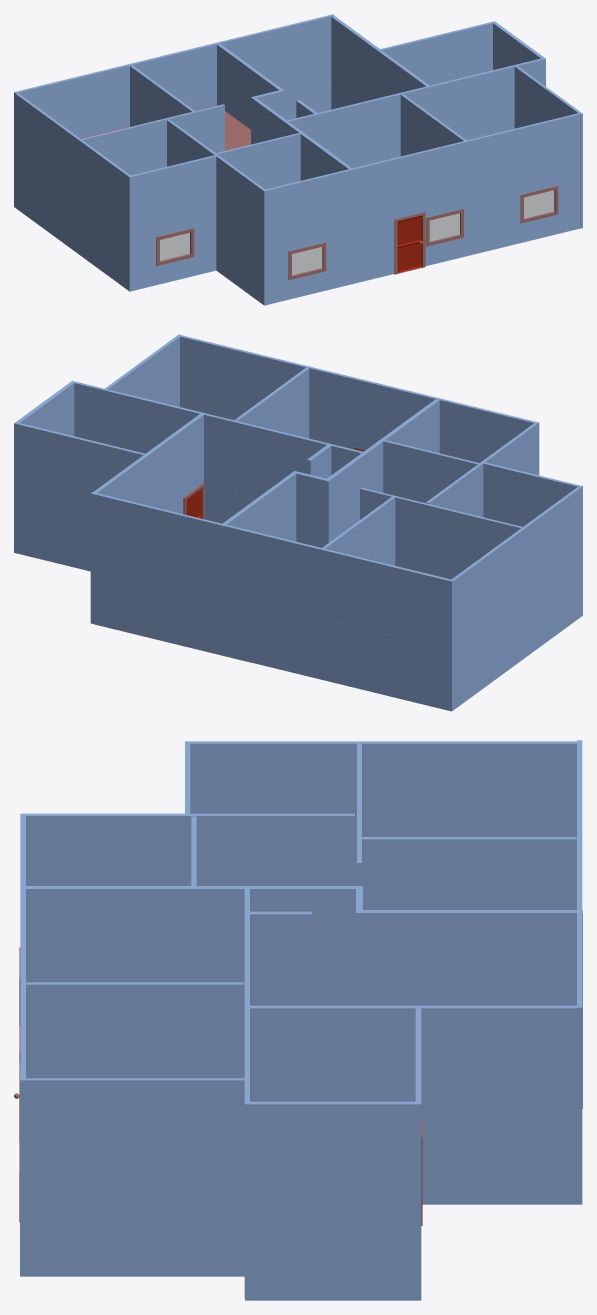
Rendered from Modelocasa.fbx.
The picture shows the model from 3 angles, top to bottom: view 1: azimuth 30°, elevation 25°; view 2: azimuth 150°, elevation 25°; view 3: azimuth 270°, elevation 25°; orthographic projection. The views are drawn at different scales.
Visible parts, largest first — view 1: Cube.001, Sphere, Cube.025, Cube.024, Cube.018, Cube.023, Plane.100, Cube.027; view 2: Cube.001; view 3: Cube.001.
Part boxes in pixels (x1,y1,x2,y2): Cube.001: (14,14,582,305); Sphere: (397,215,422,272); Cube.025: (156,228,194,265); Cube.024: (520,186,558,223); Cube.018: (288,242,326,279); Cube.023: (426,209,463,246); Plane.100: (80,105,250,150); Cube.027: (394,212,425,274); Cube.001: (14,334,582,711); Cube.001: (20,740,582,1300).
Size of the model in its own units: 7851 by 2009 by 5198.
